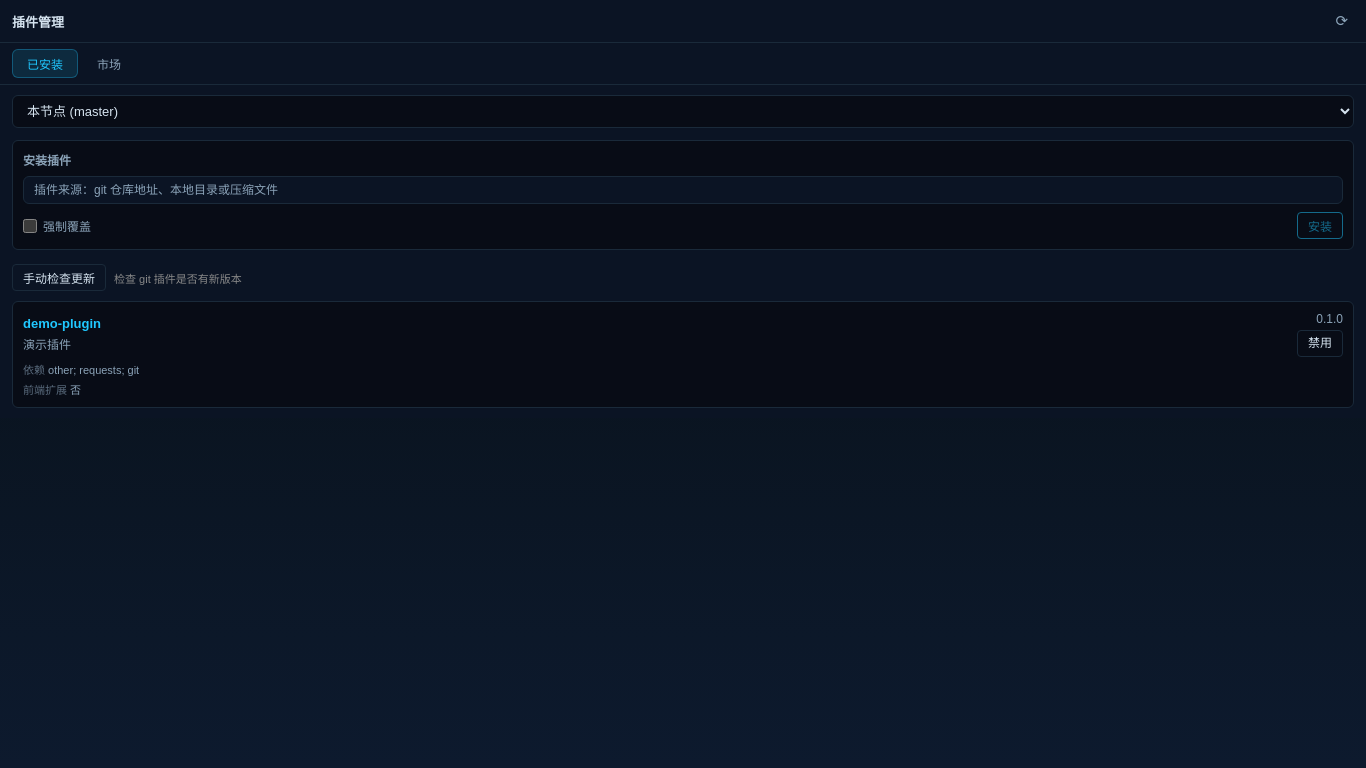
Test case: PluginSidebar › 能力不显示在条目中，右键菜单弹出能力详情弹窗展示
This screenshot has width=1366, height=768.
Expected: the text "事件钩子 on_task_start" is not shown
Expected: the text "@mycmd" is not shown
// 右键点击插件条目时展示右键菜单
Right-click the element showing "demo-plugin 演示插件 0.1.0 禁用 依赖 other; requests; git 前端扩展 否".
right_click(683, 354)  # box [12,301,1354,408]
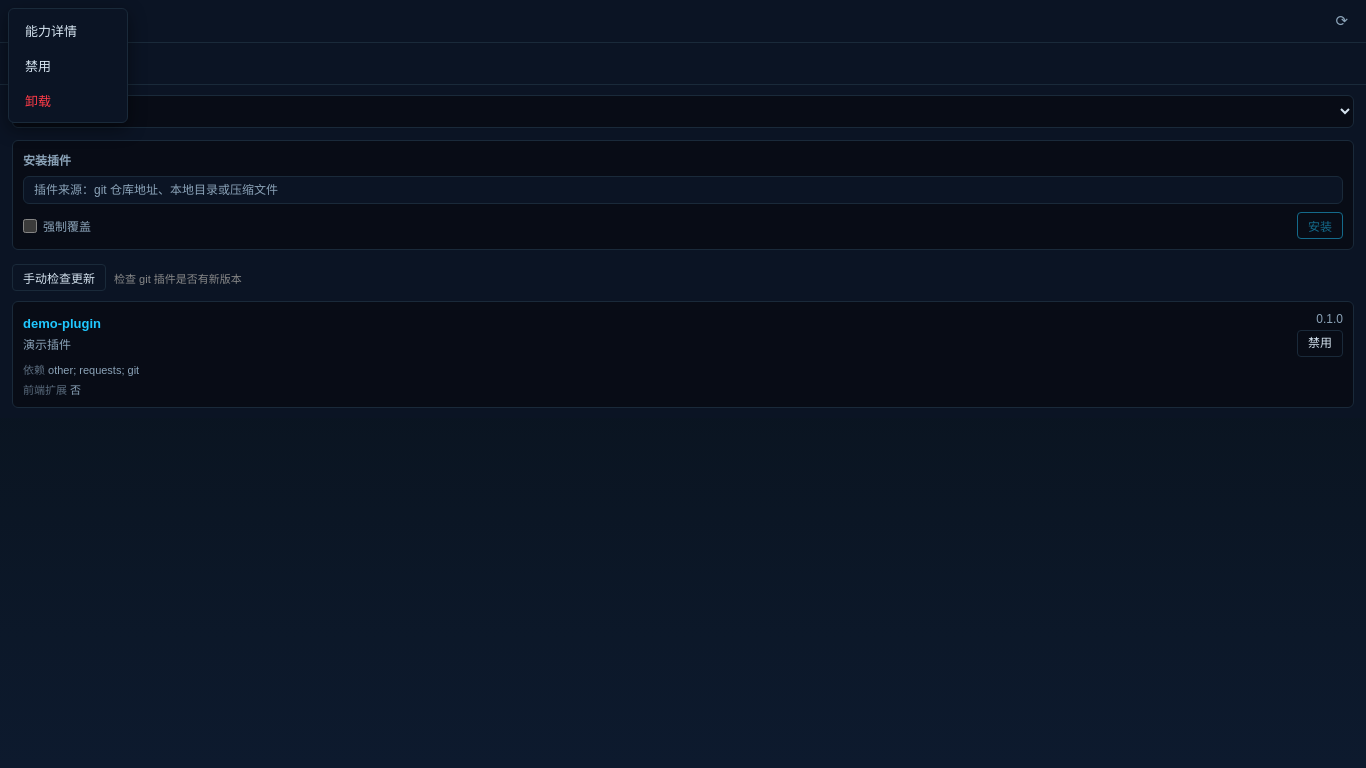
Expected: the element showing "能力详情 禁用 卸载" is shown, [8,8,128,123]
Expected: the text "能力详情" is shown
Expected: the button "卸载" is shown, [13,83,123,118]
// 点击“能力详情”弹出弹窗，展示全部能力
Click the button "能力详情".
click(68, 30)  # box [13,13,123,48]
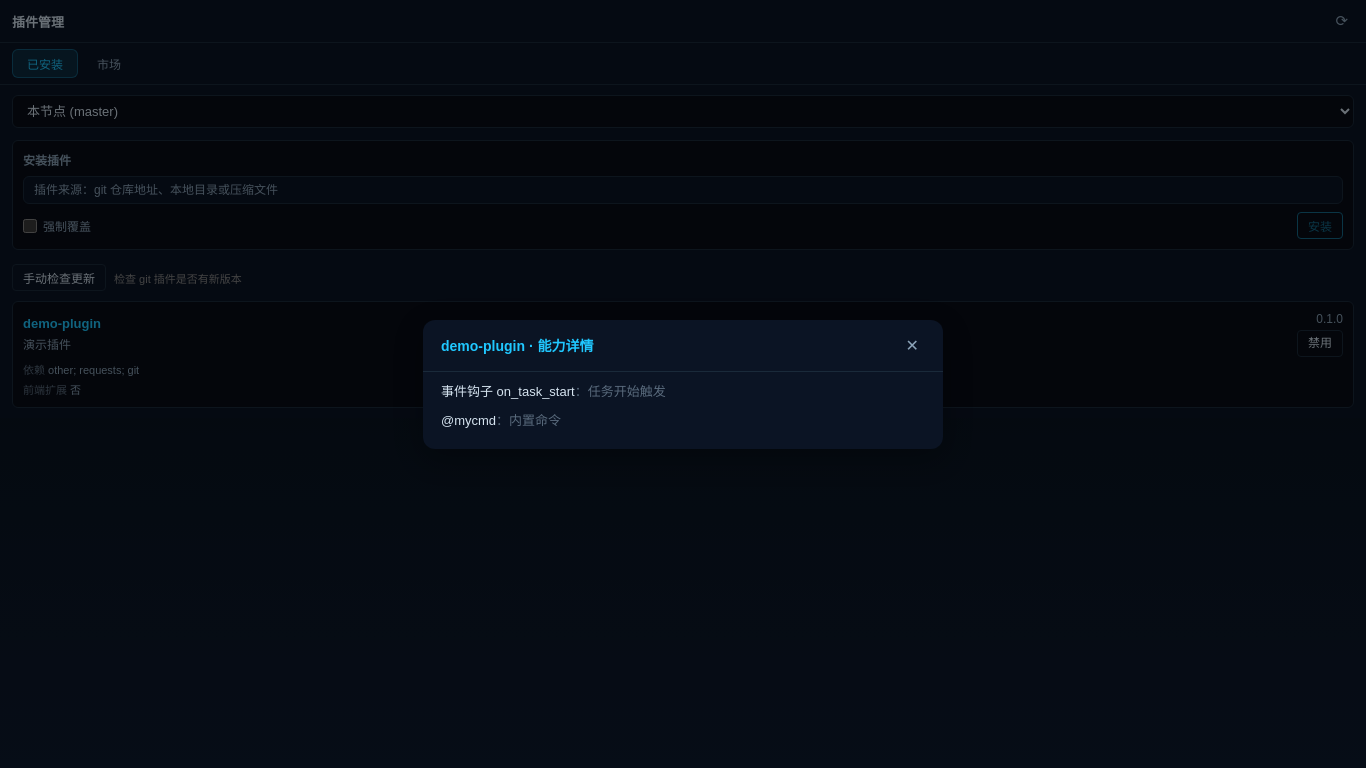
Expected: the element with class "cap-modal" is shown, [423,320,943,448]
Expected: the text "事件钩子 on_task_start" is shown, [441,384,575,398]
Expected: the text "任务开始触发" is shown, [575,384,666,398]
